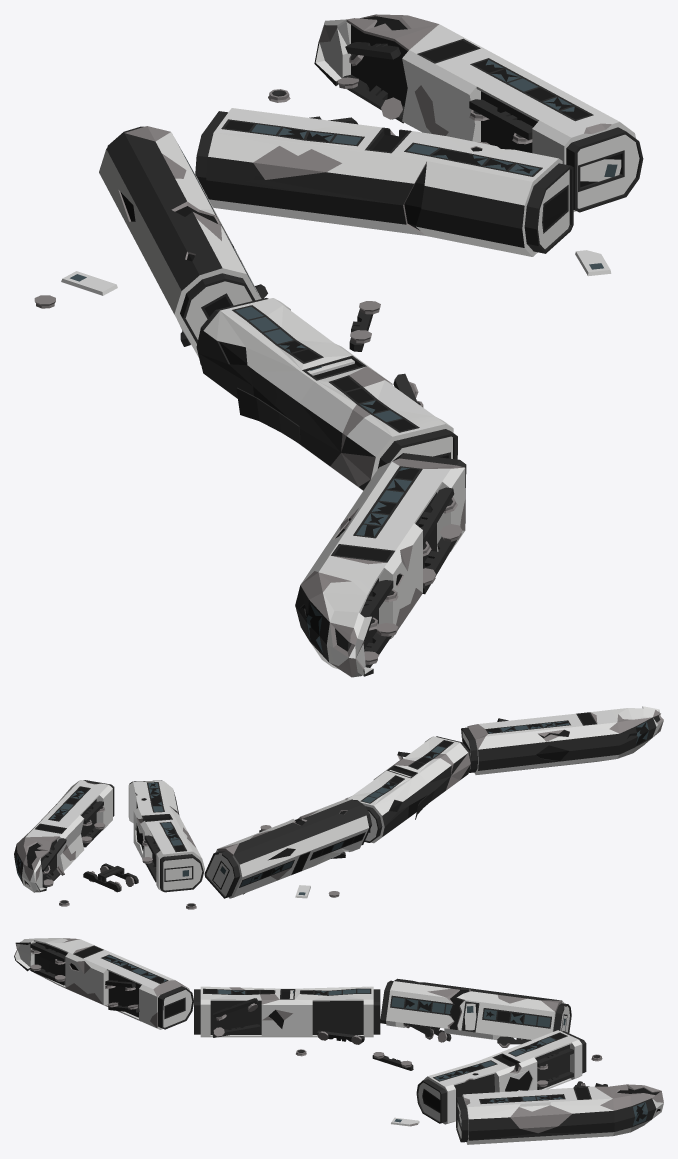
File: apocalypse_train-speed-derailment-apocalypse.fbx
3 renders of one model, top to bottom at view 1: azimuth 30°, elevation 25°; view 2: azimuth 150°, elevation 25°; view 3: azimuth 270°, elevation 25°, orthographic. The views are drawn at different scales.
Visible parts, largest first — view 1: apocalypse_train_speed_derailment_apocalypse; view 2: apocalypse_train_speed_derailment_apocalypse; view 3: apocalypse_train_speed_derailment_apocalypse.
Boxes of the visible parts, x1,y1,x2,y2 form: apocalypse_train_speed_derailment_apocalypse: (34, 14, 643, 677); apocalypse_train_speed_derailment_apocalypse: (14, 706, 663, 909); apocalypse_train_speed_derailment_apocalypse: (14, 938, 663, 1144).
Bounding box in the file's own units: 132 × 16.85 × 200.
